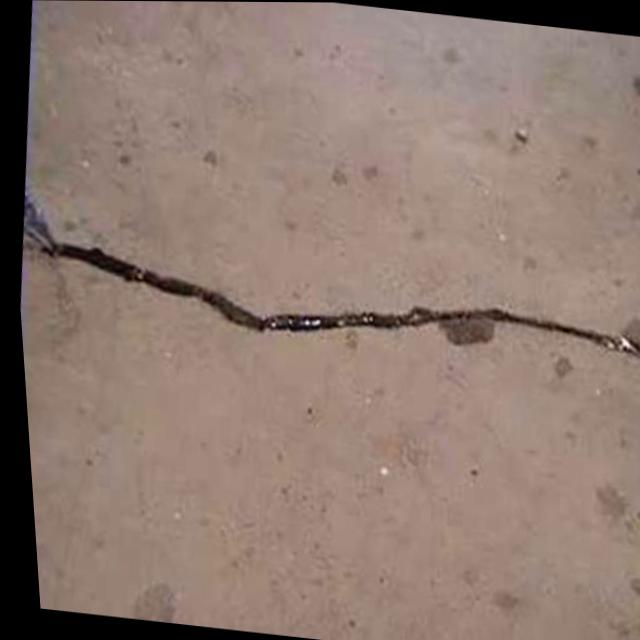Crack: (9, 181, 640, 401)
